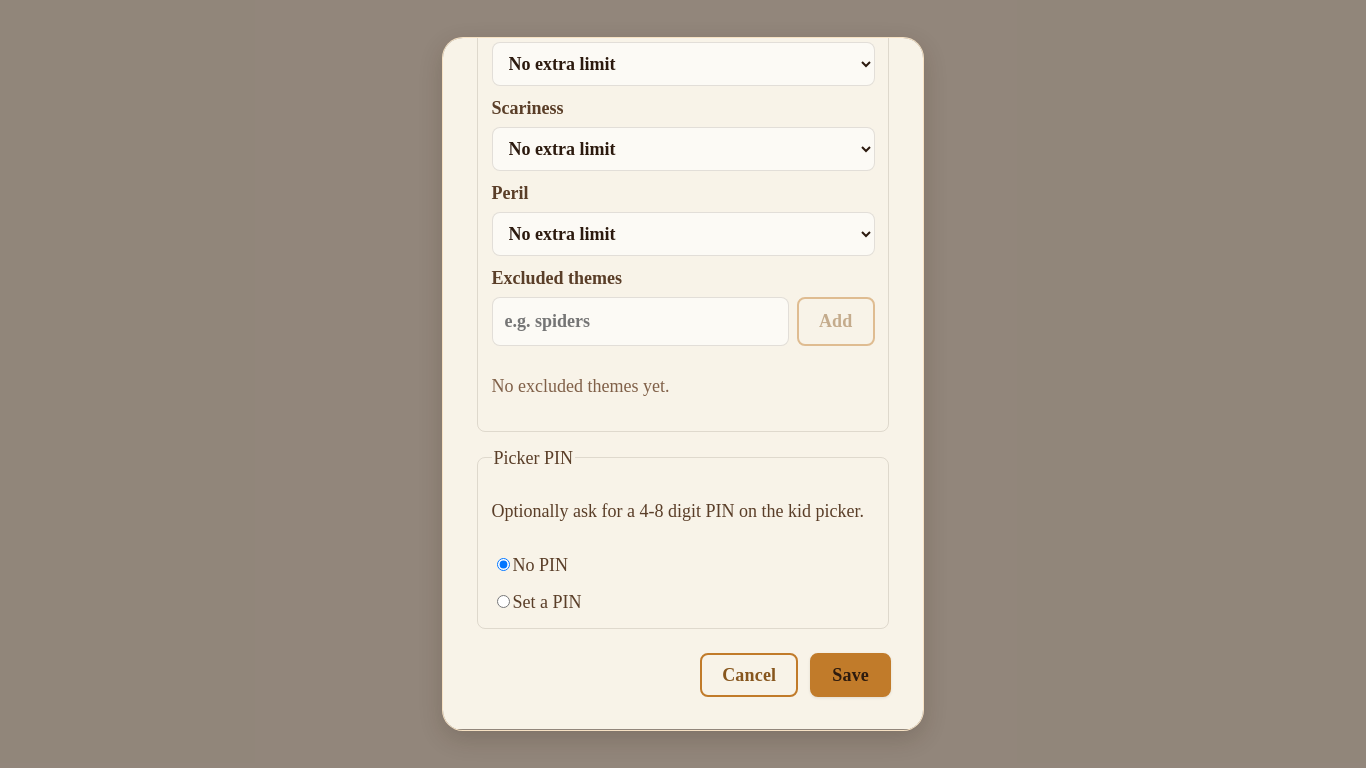
Scenario: ProfileFormDialog picker PIN controls (P6-07) › strips non-digit input from the PIN field
(page scrolled)
Click the radio button labelled "Set a PIN" at (503, 602), box left=496, top=595, right=510, bottom=608
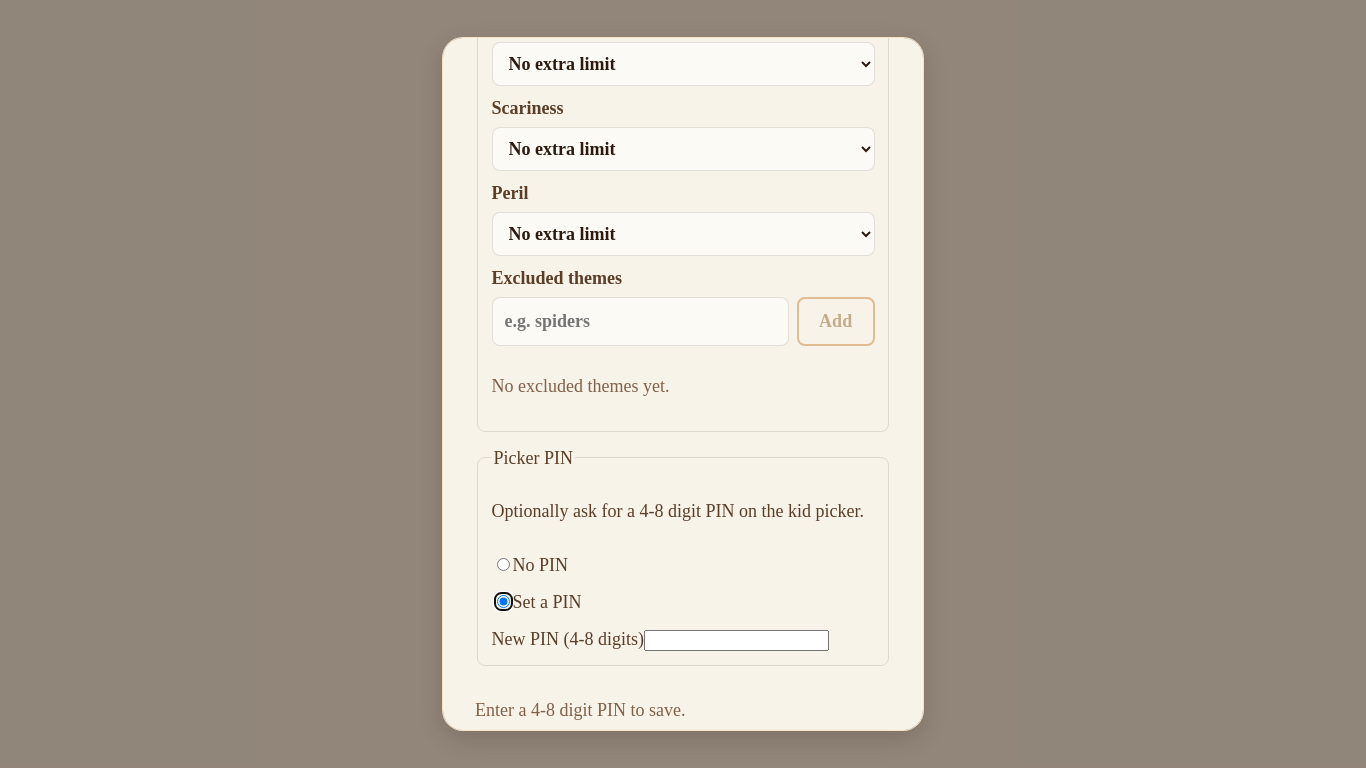
Type "1a2b3c4d" into the password field labelled "New PIN (4-8 digits)" at (736, 640), box left=644, top=630, right=829, bottom=651
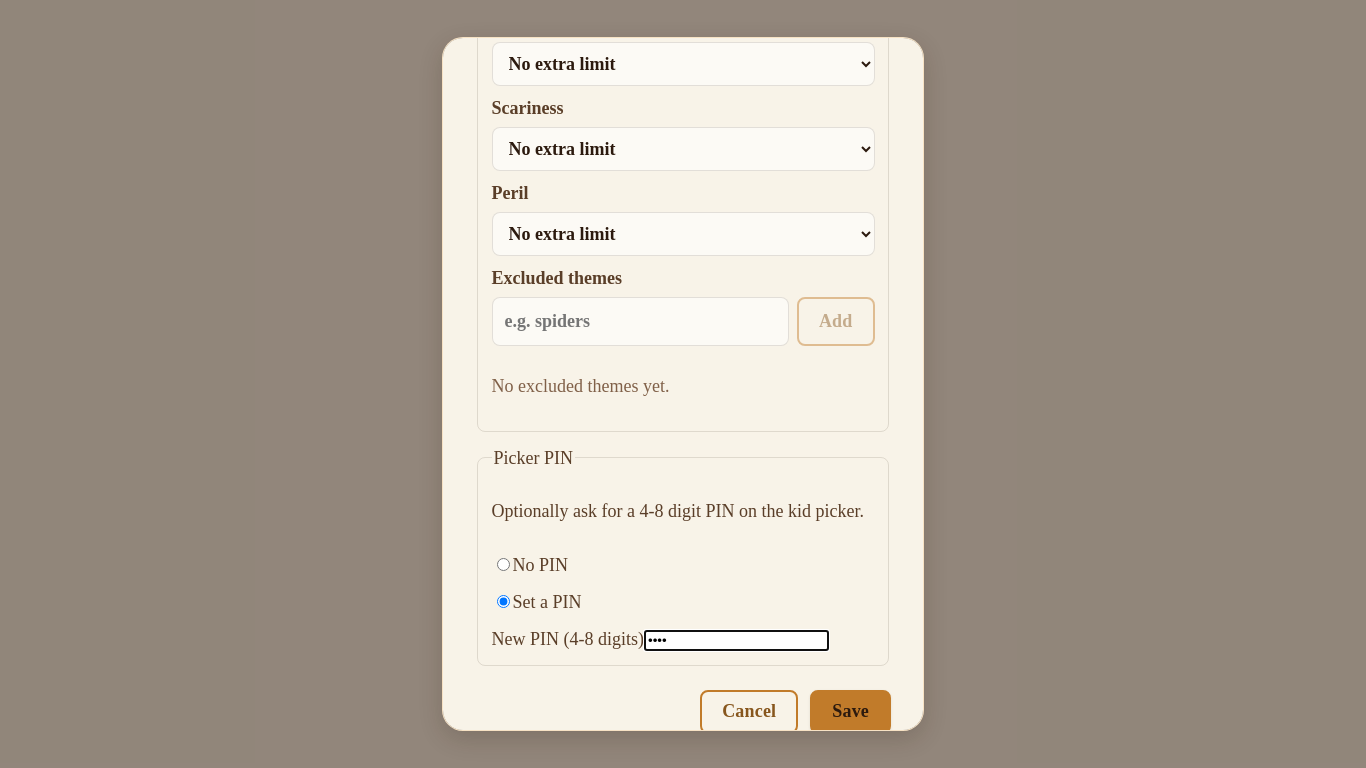
Expected: the password field labelled "New PIN (4-8 digits)" holds "1234", left=644, top=630, right=829, bottom=651
